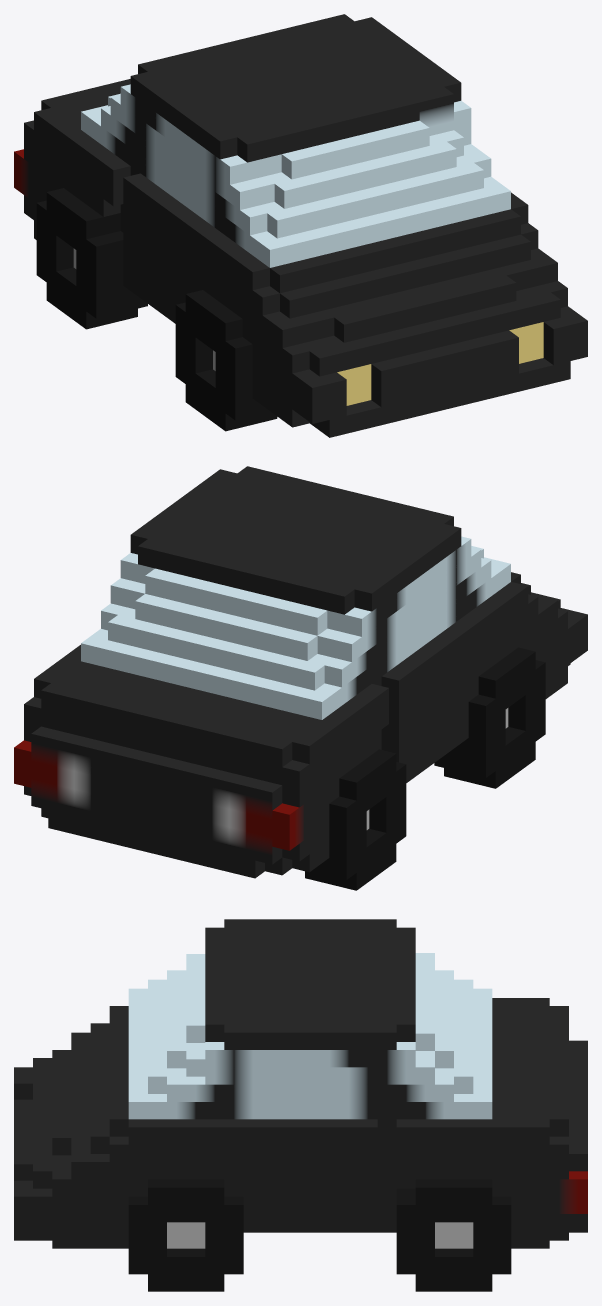
The model's file is Car3.dae.
3 views of the same model, one above another, from view 1: azimuth 30°, elevation 25°; view 2: azimuth 150°, elevation 25°; view 3: azimuth 270°, elevation 25° (orthographic). The views are drawn at different scales.
Parts seen in each view (by area): view 1: Matrix; view 2: Matrix; view 3: Matrix.
Boxes of the visible parts, left/top/right/bottom form: Matrix: left=14, top=14, right=587, bottom=437; Matrix: left=14, top=466, right=587, bottom=890; Matrix: left=14, top=919, right=587, bottom=1291.
Bounding box in the file's own units: 18 × 14 × 30.
